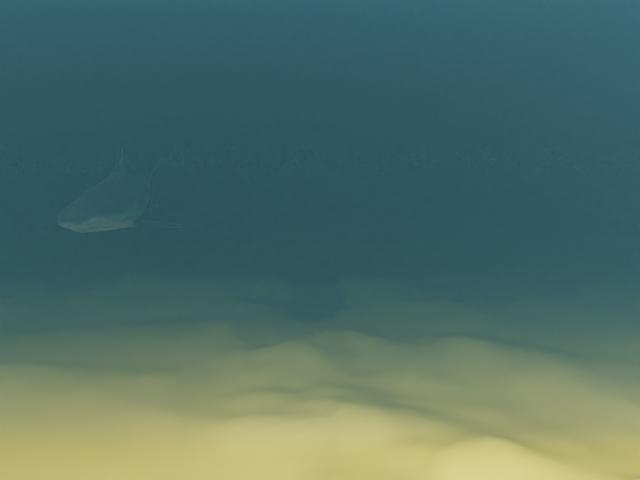Carribean Shark.001: (41, 142, 199, 232)
